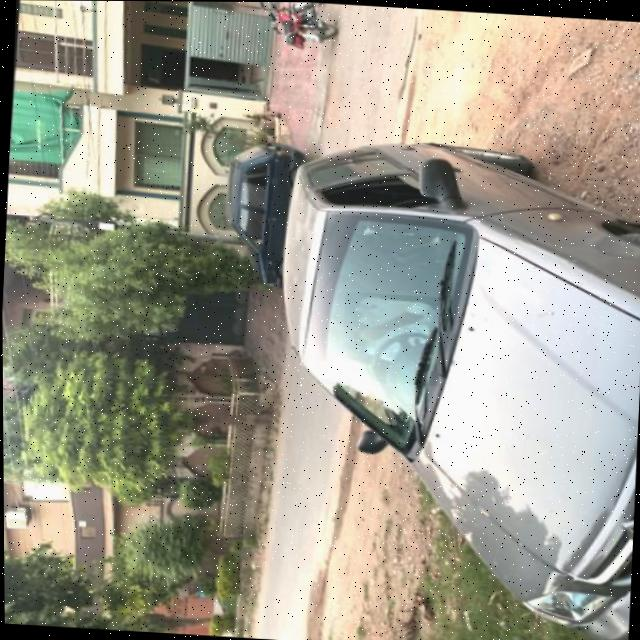no-seatbelt: (341, 290, 443, 385)
